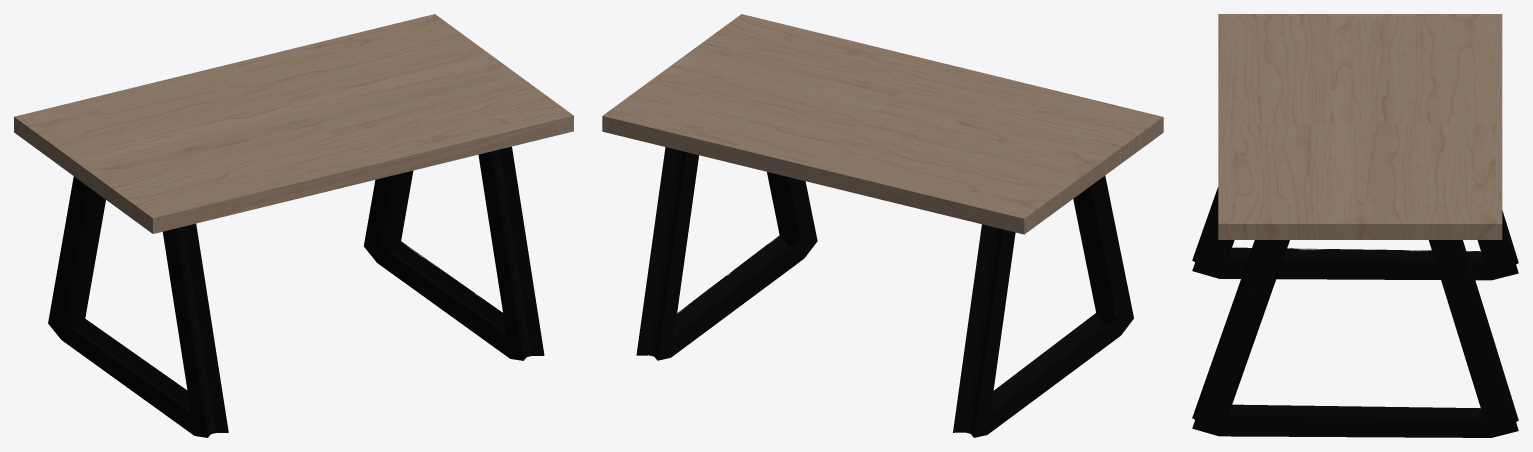
File: IndustrialTable.fbx
3 renders of one model, left to right at view 1: azimuth 30°, elevation 25°; view 2: azimuth 150°, elevation 25°; view 3: azimuth 270°, elevation 25°, orthographic. The views are drawn at different scales.
Visible parts, largest first — view 1: Box001; view 2: Box001; view 3: Box001.
Boxes of the visible parts, x1,y1,x2,y2 form: Box001: [14, 14, 573, 437]; Box001: [602, 14, 1163, 437]; Box001: [1192, 14, 1518, 437].
Bounding box in the file's own units: 140 × 73.01 × 92.02.
